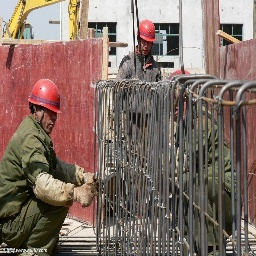helmet: (26, 80, 64, 115), (138, 19, 159, 43)
no-vest: (4, 122, 60, 246)
person: (0, 76, 69, 250)
